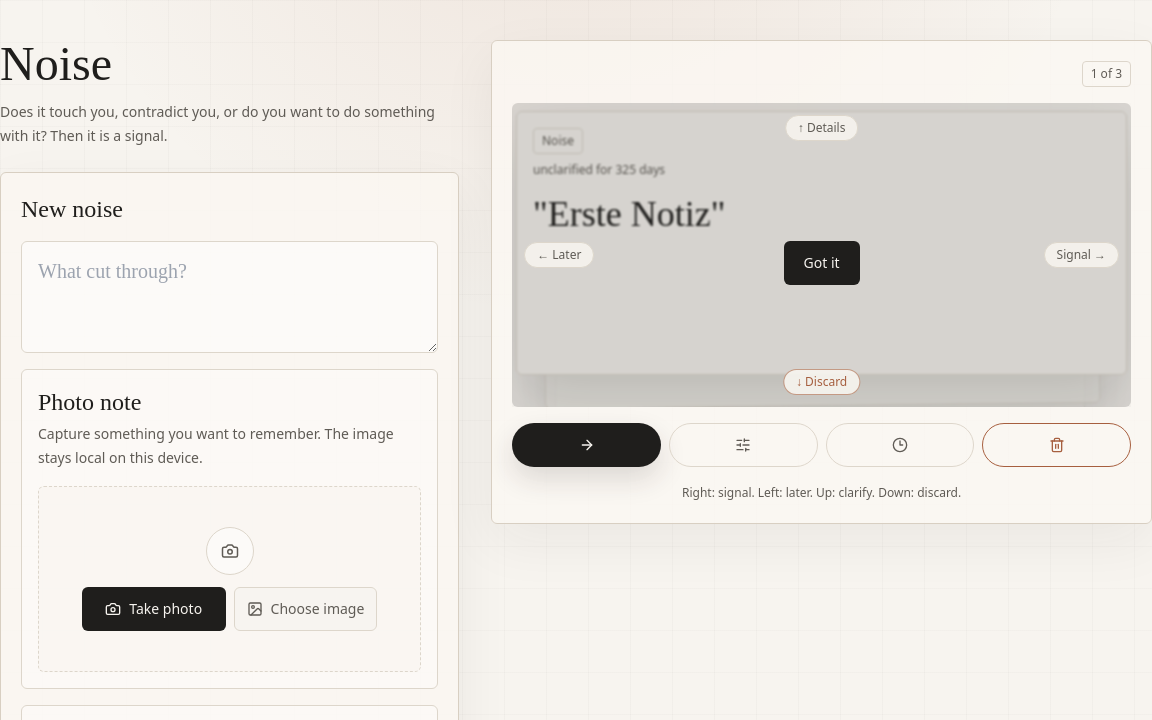
InboxPage › zeigt den Gesten-Coach beim ersten Besuch und merkt sich das Schließen
Click the button "Got it".
click(822, 263)  # box [784,241,860,285]
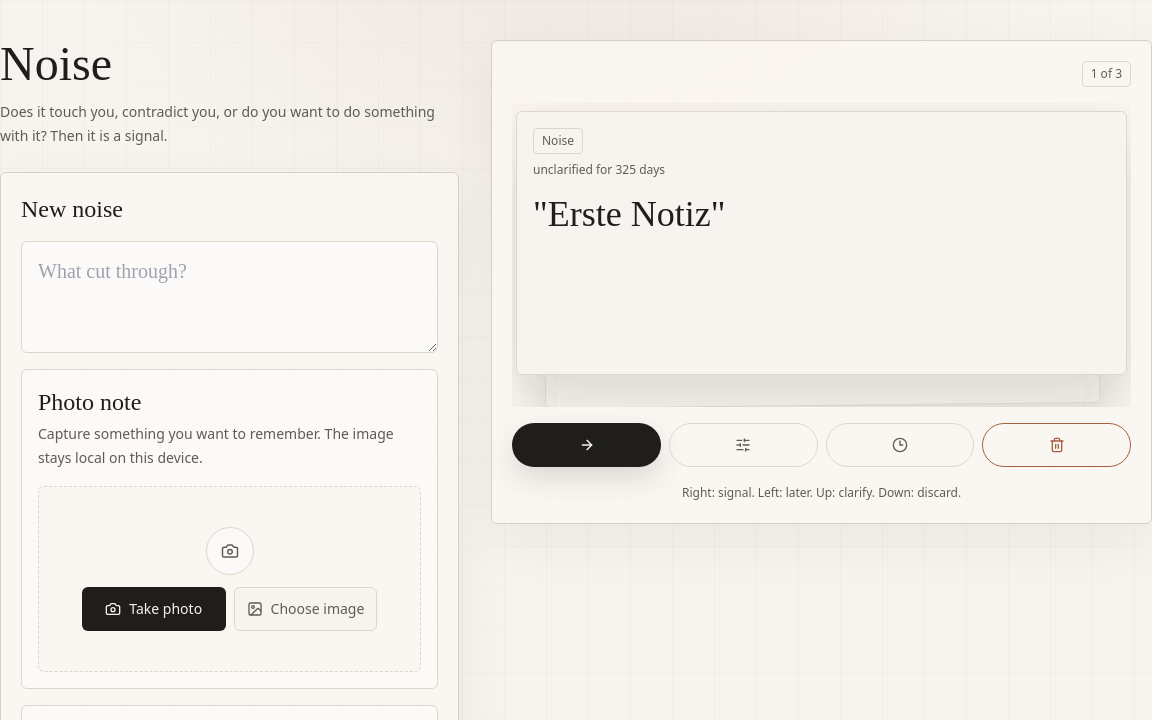
Expected: the dialog "Gestures" is gone
